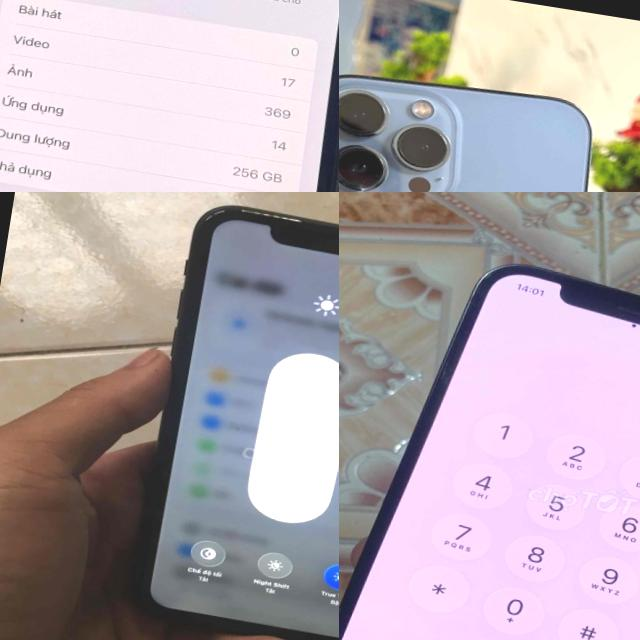gen_11: (143, 209, 339, 640)
gen_12_13: (339, 236, 640, 640), (339, 56, 628, 192)
gen_x_xs: (0, 0, 339, 192)
